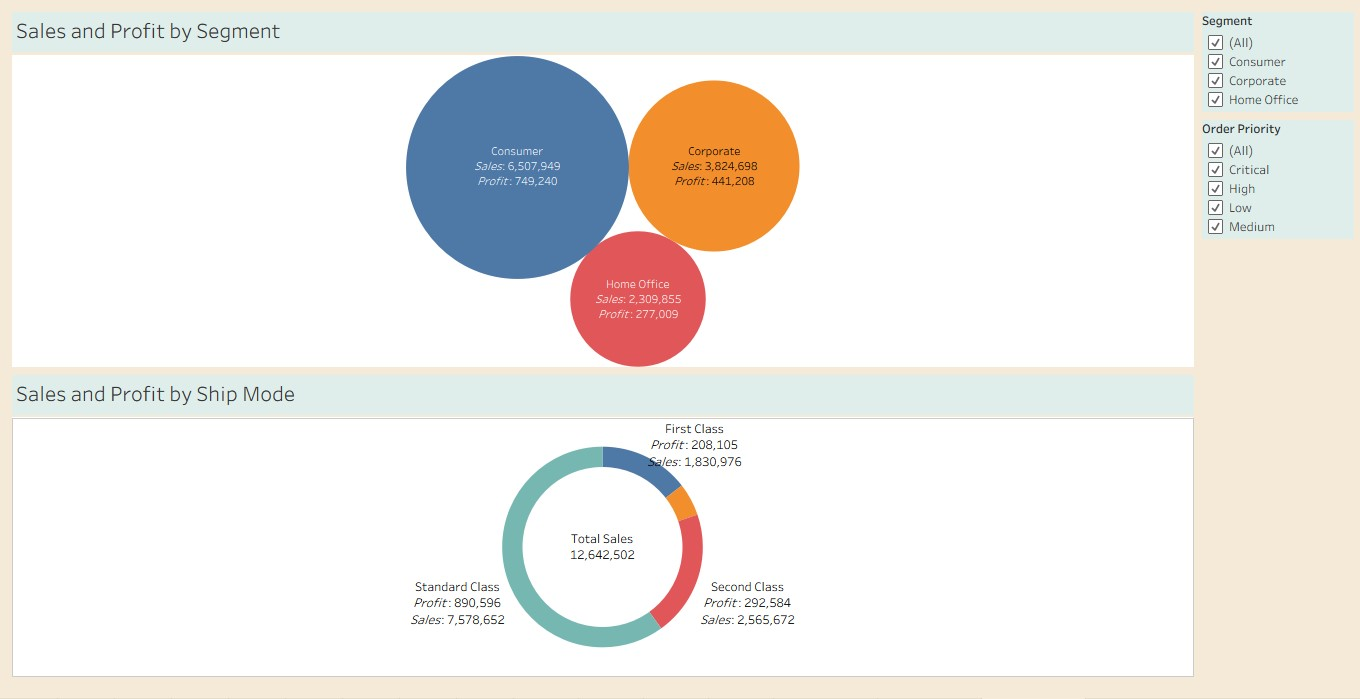

Layout of this report page (visuals, bound fields, positions):
{"tool":"tableau","page":{"name":"Dashboard 3","canvas":[1000,1000],"units":"permille","ordinal":2},"visuals":[{"type":"worksheet","title":"Sheet 11","mark":"Circle","box":[6.9,14.5,847.6,516.3]},{"type":"filter","title":"Sheet 11","param":"[federated.1x3ysz21c6oyff14n10ec0wwja66].[none:Segment:nk]","box":[854.5,14.5,138.5,195.7]},{"type":"filter","title":"Sheet 13","param":"[federated.1x3ysz21c6oyff14n10ec0wwja66].[none:Order Priority:nk]","box":[854.5,210.1,138.5,230.1]},{"type":"worksheet","title":"Sheet 13","mark":"Pie","rows":["Calculation_1662954167525117964","Calculation_1662954167525117964"],"box":[6.9,530.8,847.6,454.7]}]}

Visuals, with their boxes on the dashboard's canvas, which has no fixed pixel size, in thousandths of its width and height (x1, y1, x2, y2). These are canvas units, not pixel positions in the 1360x699 screenshot, which may show the page scaled, cropped or inside an application window:
"Sheet 11" worksheet (Circle marks): 7,14,854,531
"Sheet 11" filter: 854,14,993,210
"Sheet 13" filter: 854,210,993,440
"Sheet 13" worksheet (Pie marks): 7,531,854,986
